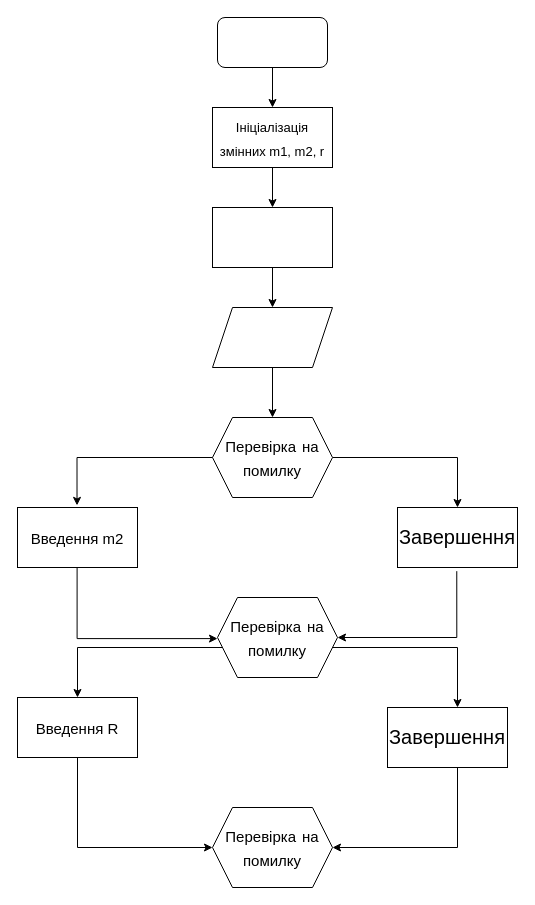
Image size: 535x905. Some labels were removed from this diagram. The centre of each missing label's shape, as x and y in pixels:
Введення m1: point 272,337
Основний цикл do-while: point 272,237
Початок: point 272,42
